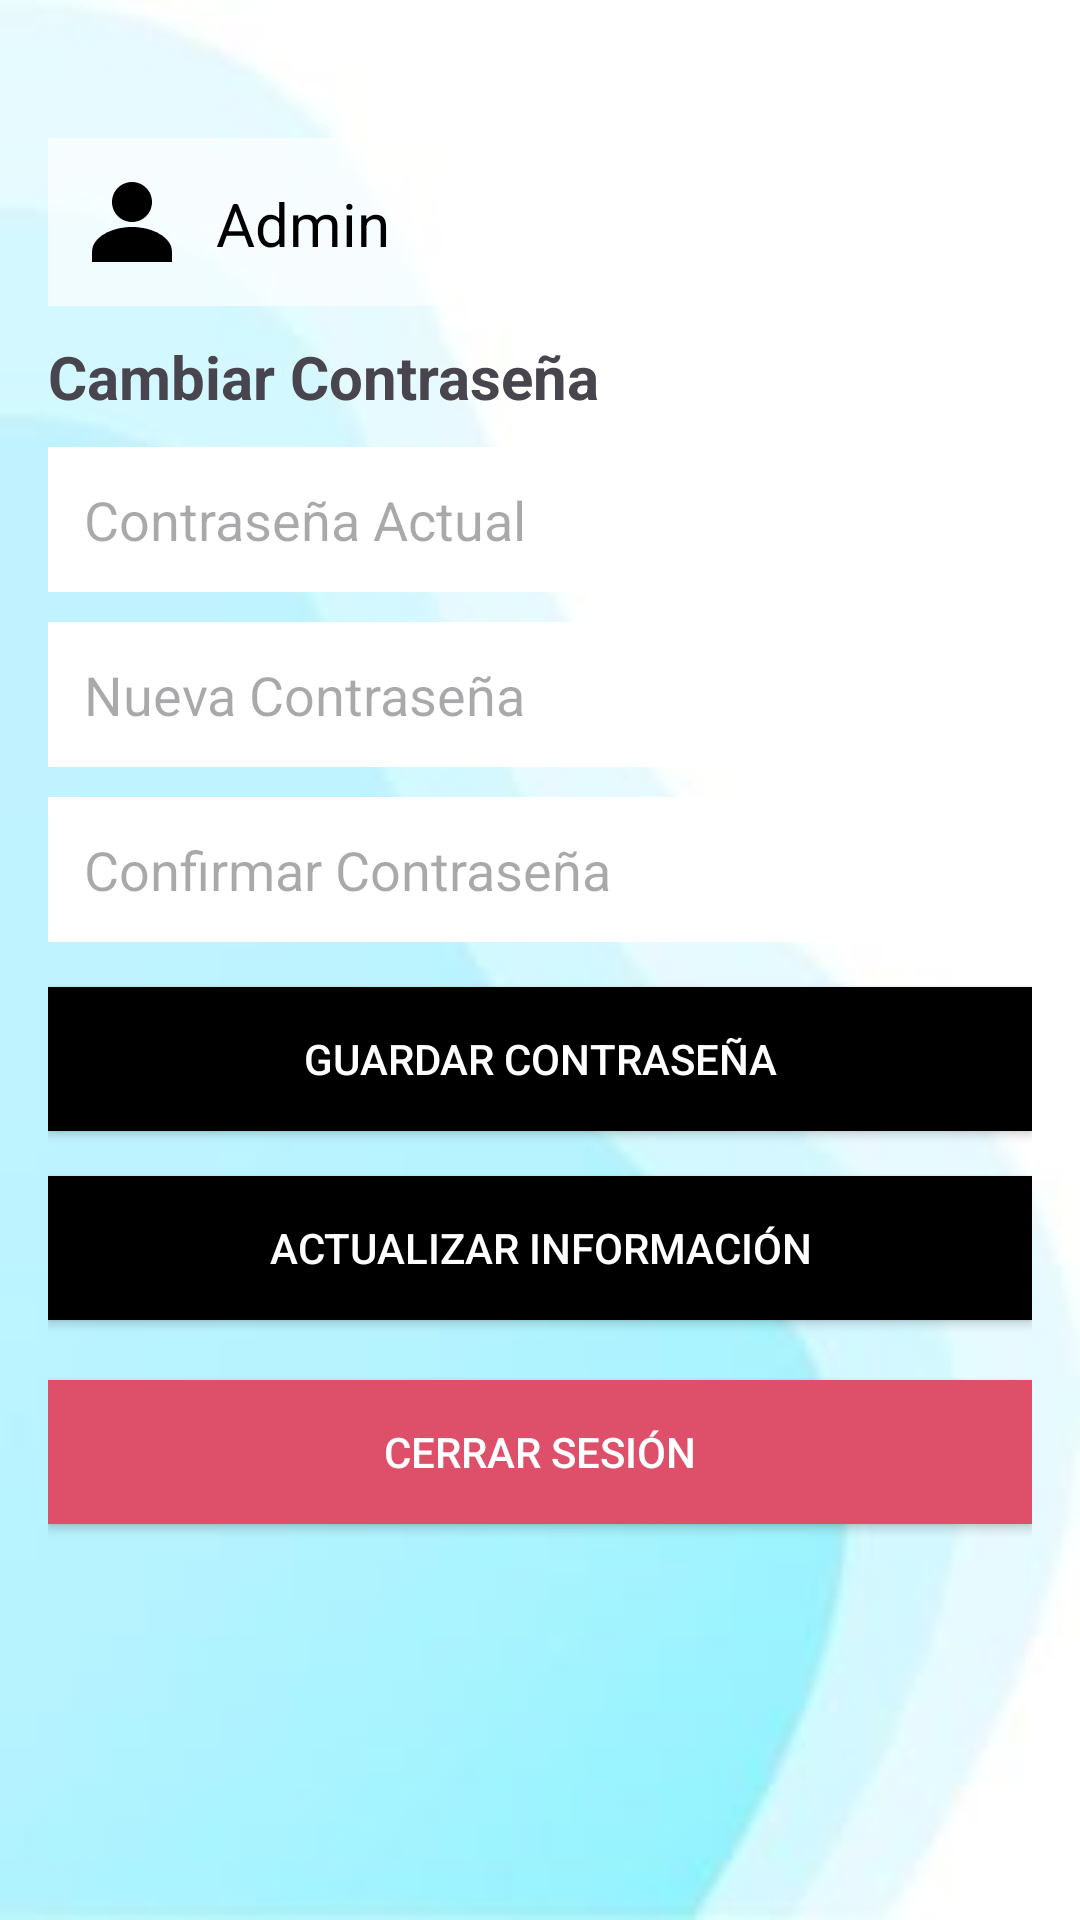

Icon bounding boxes for this 1080w x 1920h phone screenshot, format [left=x1, top=y1, right=x2, bottom=y2]:
profile: [left=92, top=182, right=172, bottom=262]
